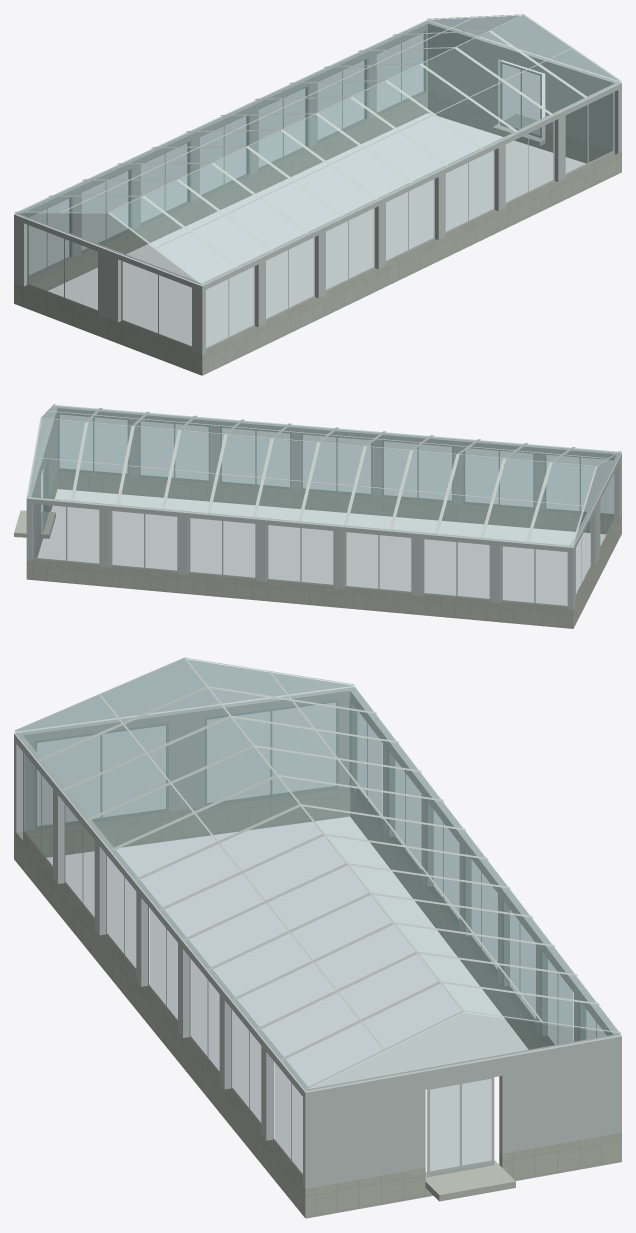
3 renders of one model, top to bottom at view 1: azimuth 30°, elevation 25°; view 2: azimuth 150°, elevation 25°; view 3: azimuth 270°, elevation 25°, orthographic. The views are drawn at different scales.
Parts seen in each view (by area): view 1: greenhouse3__glass, greenhouse3__frame, greenhouse3__wall, greenhouse3__threshold-entry; view 2: greenhouse3__glass, greenhouse3__frame, greenhouse3__wall, greenhouse3__threshold-entry; view 3: greenhouse3__glass, greenhouse3__frame, greenhouse3__wall, greenhouse3__threshold-entry.
Part boxes in pixels (left/top/right/bottom): greenhouse3__glass: left=15, top=15, right=621, bottom=347; greenhouse3__frame: left=14, top=14, right=621, bottom=354; greenhouse3__wall: left=14, top=91, right=621, bottom=375; greenhouse3__threshold-entry: left=492, top=114, right=545, bottom=146; greenhouse3__glass: left=27, top=405, right=621, bottom=605; greenhouse3__frame: left=26, top=404, right=621, bottom=609; greenhouse3__wall: left=26, top=468, right=621, bottom=628; greenhouse3__threshold-entry: left=14, top=510, right=55, bottom=538; greenhouse3__glass: left=15, top=659, right=620, bottom=1173; greenhouse3__frame: left=14, top=657, right=621, bottom=1188; greenhouse3__wall: left=14, top=786, right=621, bottom=1218; greenhouse3__threshold-entry: left=425, top=1160, right=515, bottom=1201.
Bounding box in the file's own units: 21.8 × 4.48 × 13.8.
Materials: 4 (1 with a texture image).
